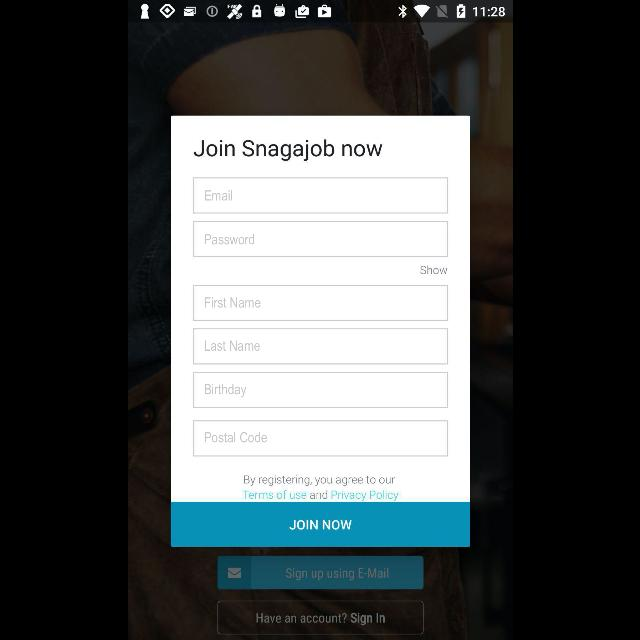input: (192, 421, 448, 457), (192, 372, 448, 408), (192, 329, 448, 365), (192, 285, 448, 321), (192, 221, 448, 257), (192, 178, 448, 214)
panel: (170, 116, 470, 546)
text: (192, 140, 382, 162), (242, 475, 398, 501), (204, 432, 266, 442), (204, 341, 260, 352), (204, 384, 246, 398), (204, 298, 260, 308), (204, 235, 253, 245), (204, 190, 232, 202), (419, 266, 446, 274)
textbutton: (170, 502, 470, 548), (217, 601, 423, 635), (217, 555, 423, 589)
uppertaskbar: (128, 1, 512, 23)
